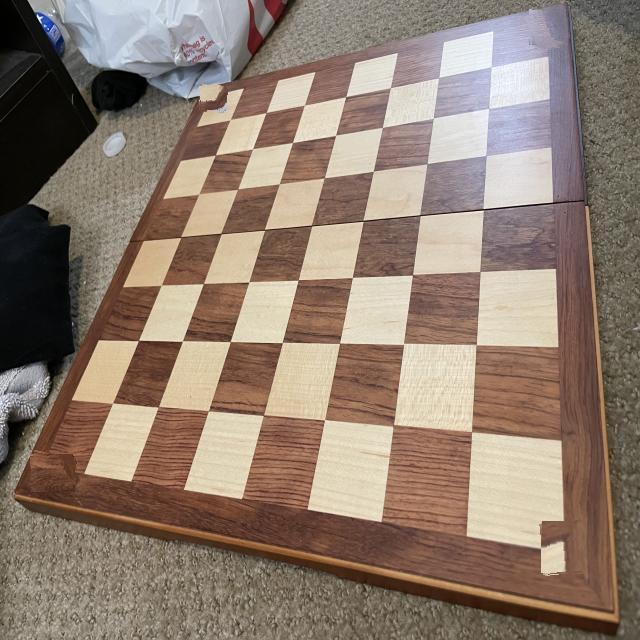chess-table-corners: (541, 522, 584, 576), (29, 452, 75, 494), (527, 7, 568, 48), (198, 85, 227, 112)
